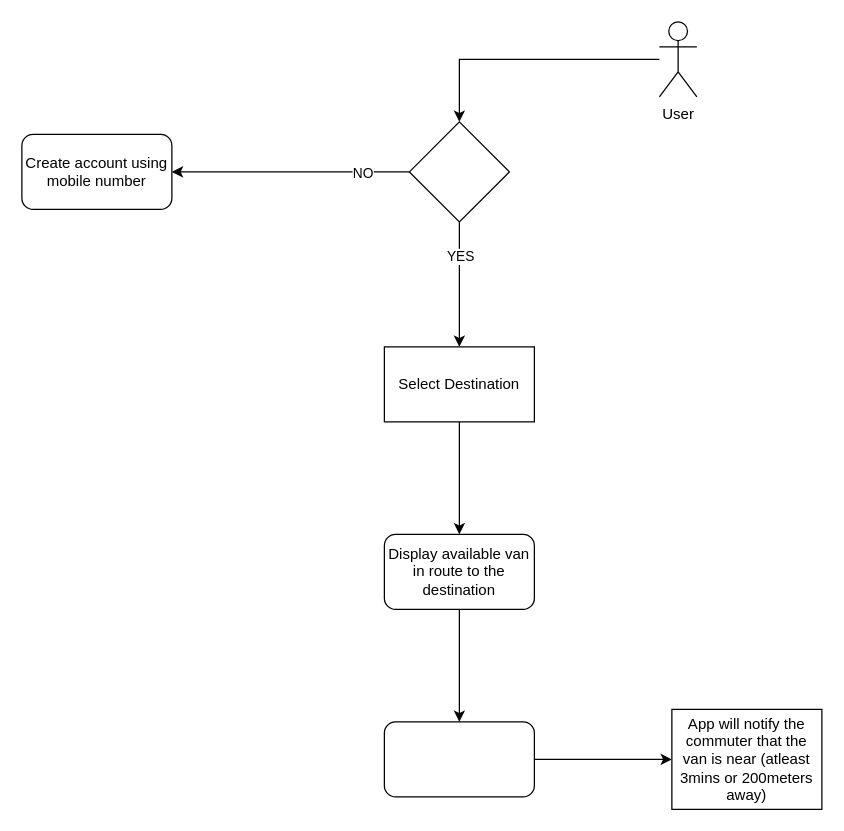
Some shapes in this 844 by 831 pixel diagram are drawn without their labels. The shapes that lost their labels are listed below. From the top down, each one's box as (x1, y1, x2, y2) in pixels, then its label:
(408, 121, 509, 222): Is Registered?
(383, 721, 534, 797): Select a van and mark as commuter
